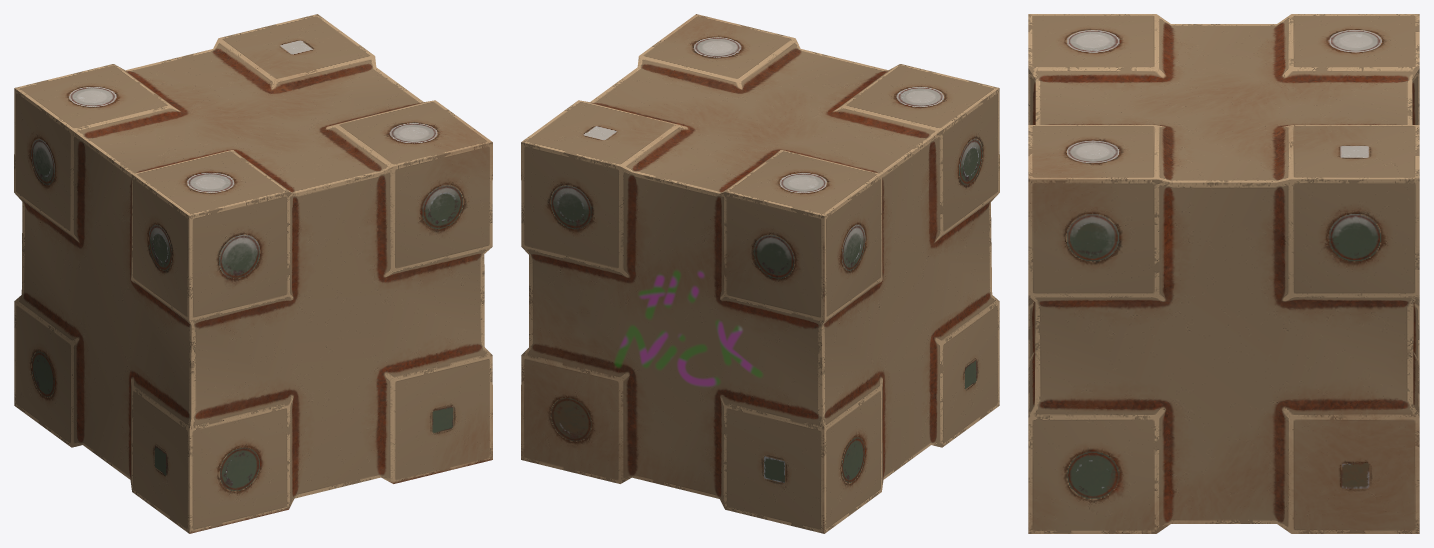
Rendered from yoyoma.fbx.
3 renders of one model, left to right at view 1: azimuth 30°, elevation 25°; view 2: azimuth 150°, elevation 25°; view 3: azimuth 270°, elevation 25°, orthographic. The views are drawn at different scales.
Parts seen in each view (by area): view 1: cube_lowLOD0; view 2: cube_lowLOD0; view 3: cube_lowLOD0.
Part boxes in pixels (<box>): cube_lowLOD0: <box>14,14,492,533</box>; cube_lowLOD0: <box>521,14,999,533</box>; cube_lowLOD0: <box>1028,14,1419,533</box>.
Size of the model in its own units: 14.71 by 14.7 by 14.7.
